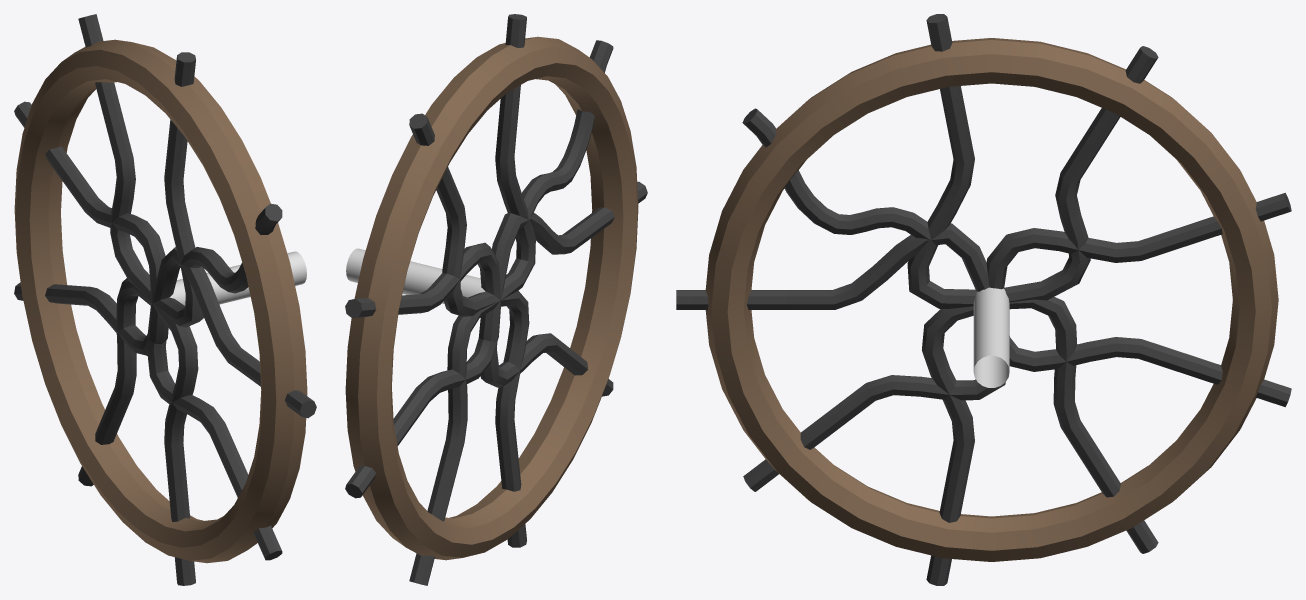
The model's file is timonfixed.fbx.
The picture shows the model from 3 angles, left to right: view 1: azimuth 30°, elevation 25°; view 2: azimuth 150°, elevation 25°; view 3: azimuth 270°, elevation 25°; orthographic projection. The views are drawn at different scales.
Visible parts, largest first — view 1: Shape001; view 2: Shape001; view 3: Shape001.
Boxes of the visible parts, box(x1,y1,x2,y2) form: Shape001: box(14, 14, 316, 585); Shape001: box(345, 14, 647, 585); Shape001: box(676, 14, 1291, 585).
Bounding box in the file's own units: 16.71 × 52.9 × 52.1.
